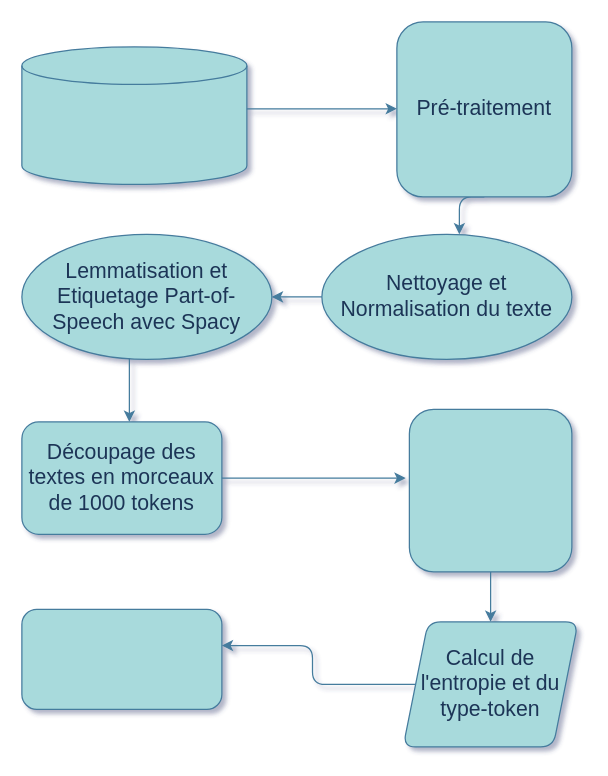
This 608x776 diagram has some shape labels left out. Each missing label, with the centre of its shape:
Corpus: the point at 134,115
Liste de lemmes et de birgram de lemmes: the point at 490,490
Résultats: the point at 121,658
